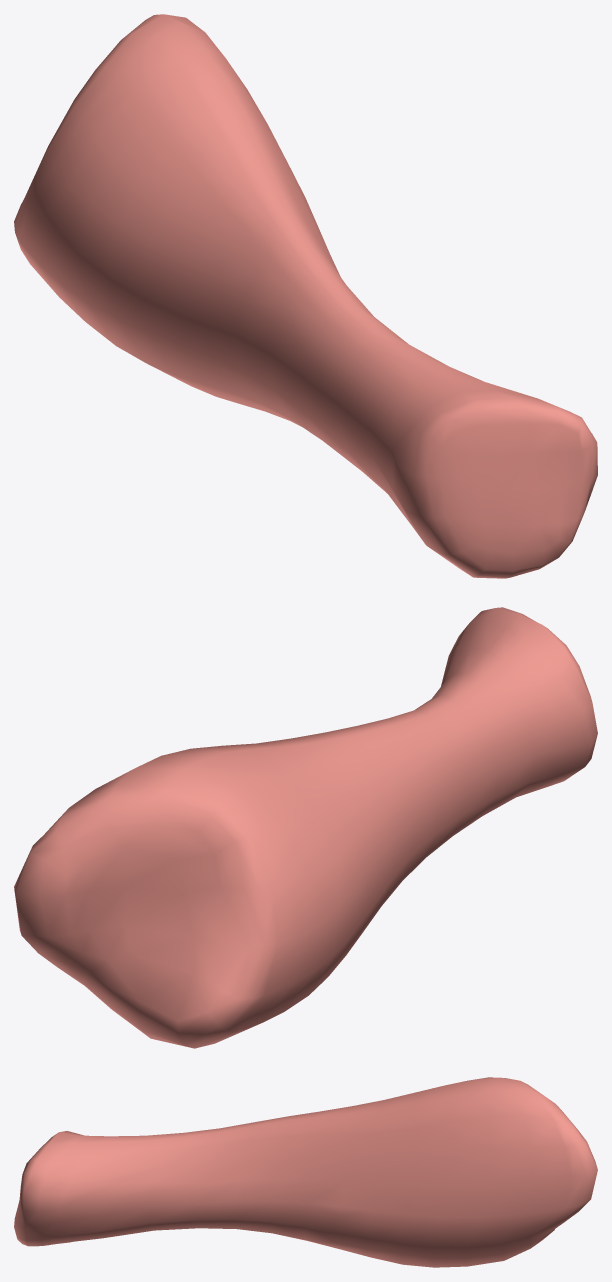
Rendered from shank.fbx.
The picture shows the model from 3 angles, top to bottom: view 1: azimuth 30°, elevation 25°; view 2: azimuth 150°, elevation 25°; view 3: azimuth 270°, elevation 25°; orthographic projection. The views are drawn at different scales.
Parts seen in each view (by area): view 1: Beta_Surface.005; view 2: Beta_Surface.005; view 3: Beta_Surface.005.
Boxes of the visible parts, x1,y1,x2,y2 form: Beta_Surface.005: [14, 14, 597, 578]; Beta_Surface.005: [14, 607, 597, 1048]; Beta_Surface.005: [14, 1077, 597, 1267].
Size of the model in its own units: 1363 by 1620 by 4654.
